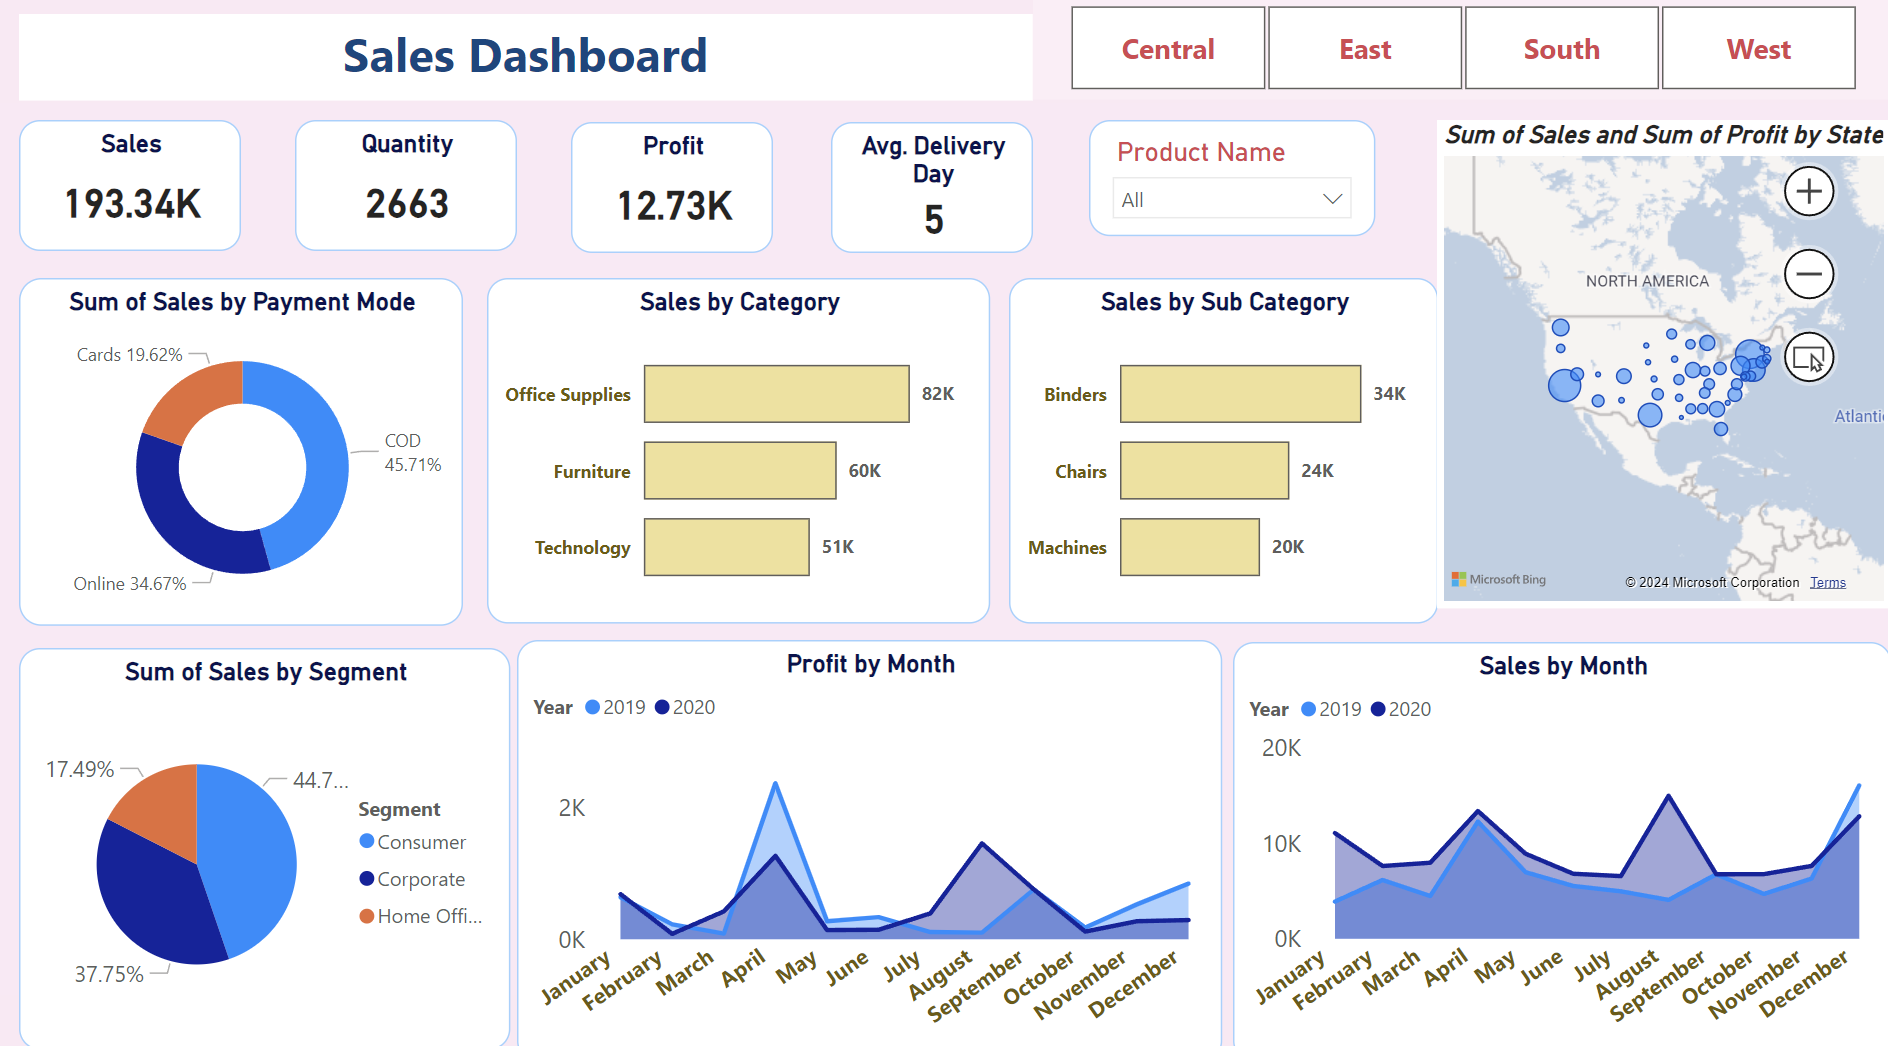

This screenshot's page, from the dashboard's own definition file:
{"tool":"powerbi","page":{"name":"Page 1","canvas":[1280,720],"ordinal":0},"visuals":[{"type":"clusteredBarChart","title":"Sales by Category","fields":{"Category":["Sales_data_for_company.Category"],"Y":["Sum(Sales_data_for_company.Sales)"]},"box":[331.7,190,340,233.3],"z":0},{"type":"clusteredBarChart","title":"Sales by Sub Category","fields":{"Category":["Sales_data_for_company.Sub-Category"],"Y":["Sum(Sales_data_for_company.Sales)"]},"box":[683.3,190,290,233.3],"z":1000},{"type":"areaChart","title":" Sales by Month","fields":{"Y":["Sum(Sales_data_for_company.Sales)"],"Category":["Sales_data_for_company.Order Date.Variation.Date Hierarchy.Month","Sales_data_for_company.Order Date.Variation.Date Hierarchy.Day"],"Series":["Sales_data_for_company.Order Date.Variation.Date Hierarchy.Year"]},"box":[835,436.7,445,283.3],"z":2000},{"type":"areaChart","title":"Profit by Month","fields":{"Category":["Sales_data_for_company.Order Date.Variation.Date Hierarchy.Month","Sales_data_for_company.Order Date.Variation.Date Hierarchy.Day"],"Series":["Sales_data_for_company.Order Date.Variation.Date Hierarchy.Year"],"Y":["Max(Sales_data_for_company.Profit)"]},"box":[351.7,435,476.7,285],"z":3000},{"type":"map","fields":{"Category":["Sales_data_for_company.State"],"Size":["Sum(Sales_data_for_company.Sales)"]},"box":[973.3,83.3,306.7,330],"z":4000},{"type":"pieChart","fields":{"Category":["Sales_data_for_company.Segment"],"Y":["Sum(Sales_data_for_company.Sales)"]},"box":[14.3,441.1,332.1,271.4],"z":5000},{"type":"donutChart","fields":{"Category":["Sales_data_for_company.Payment Mode"],"Y":["Sum(Sales_data_for_company.Sales)"]},"box":[15,190,300,235],"z":6000},{"type":"slicer","fields":{"Values":["Sales_data_for_company.Region"]},"box":[700,0,580,70],"z":7000},{"type":"slicer","fields":{"Values":["Sales_data_for_company.Product Name"]},"box":[738.3,83.3,193.3,78.3],"z":8000},{"type":"card","title":"Sales","fields":{"Values":["Sum(Sales_data_for_company.Sales)"]},"box":[15,83.3,150,88.3],"z":9000},{"type":"card","title":"Quantity","fields":{"Values":["Sum(Sales_data_for_company.Quantity)"]},"box":[201.7,83.3,150,88.3],"z":10000},{"type":"card","title":"Profit","fields":{"Values":["Sum(Sales_data_for_company.Profit)"]},"box":[388.3,85,136.7,88.3],"z":11000},{"type":"textbox","box":[15,11.7,685,58.3],"z":12000},{"type":"card","title":"Avg. Delivery Day","fields":{"Values":["Avg(Sales_data_for_company.AvgDelivery)"]},"box":[563.3,85,136.7,88.3],"z":13000}]}

Visuals, with their boxes in screenshot pixels (x1, y1, x2, y2), scaled from the page's 1280x720 canvas onto the 1888x1046 screenshot:
"Sales by Category" clusteredBarChart: 489,276,991,615
"Sales by Sub Category" clusteredBarChart: 1008,276,1436,615
" Sales by Month" areaChart: 1232,634,1887,1045
"Profit by Month" areaChart: 519,632,1222,1045
map - Sales_data_for_company.State x Sum(Sales_data_for_company.Sales): 1436,121,1887,600
pieChart - Sales_data_for_company.Segment x Sum(Sales_data_for_company.Sales): 21,641,511,1035
donutChart - Sales_data_for_company.Payment Mode x Sum(Sales_data_for_company.Sales): 22,276,465,617
slicer - Sales_data_for_company.Region: 1032,0,1887,102
slicer - Sales_data_for_company.Product Name: 1089,121,1374,235
"Sales" card: 22,121,243,249
"Quantity" card: 298,121,519,249
"Profit" card: 573,123,774,252
textbox: 22,17,1032,102
"Avg. Delivery Day" card: 831,123,1032,252
